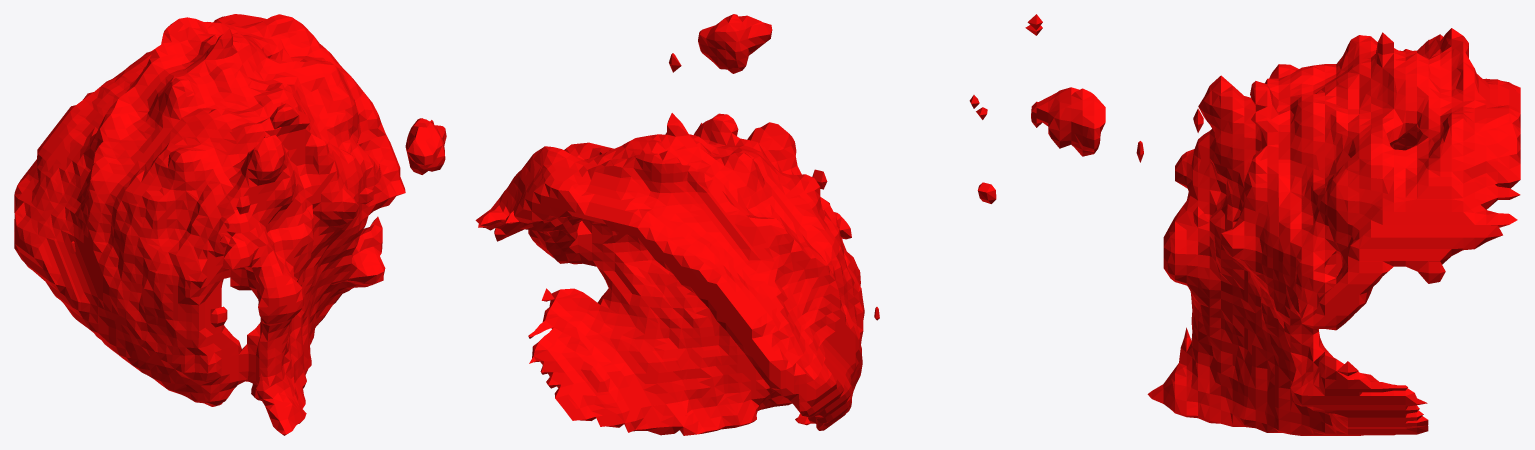
Rendered from B939XXXX-1_valve_3.obj.
3 renders of one model, left to right at view 1: azimuth 30°, elevation 25°; view 2: azimuth 150°, elevation 25°; view 3: azimuth 270°, elevation 25°, orthographic. The views are drawn at different scales.
Visible parts, largest first — view 1: 3_valve; view 2: 3_valve; view 3: 3_valve.
Boxes of the visible parts, <box> form: 3_valve: <box>14,14,446,435</box>; 3_valve: <box>475,14,996,435</box>; 3_valve: <box>1025,14,1520,435</box>.
Size of the model in its own units: 77.65 by 74.96 by 85.95.
